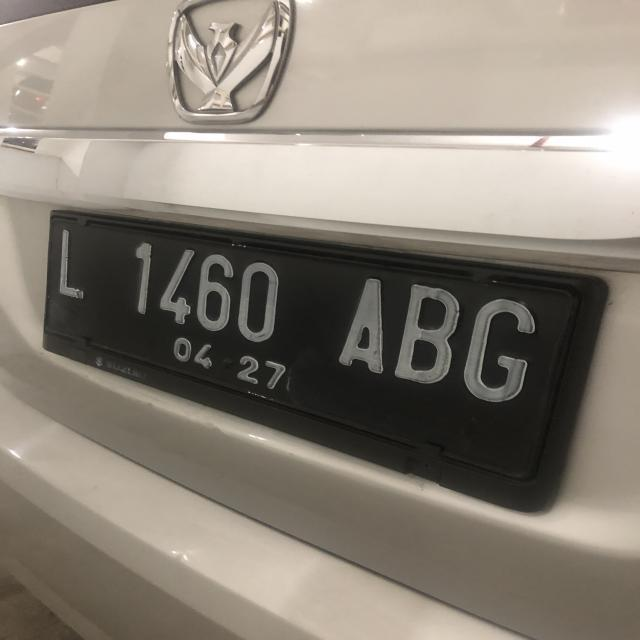0: (234, 257, 280, 346)
1: (129, 235, 153, 319)
4: (157, 247, 198, 326)
6: (194, 252, 237, 332)
A: (337, 274, 390, 374)
B: (394, 282, 462, 381)
G: (466, 291, 537, 405)
L: (54, 226, 86, 304)
